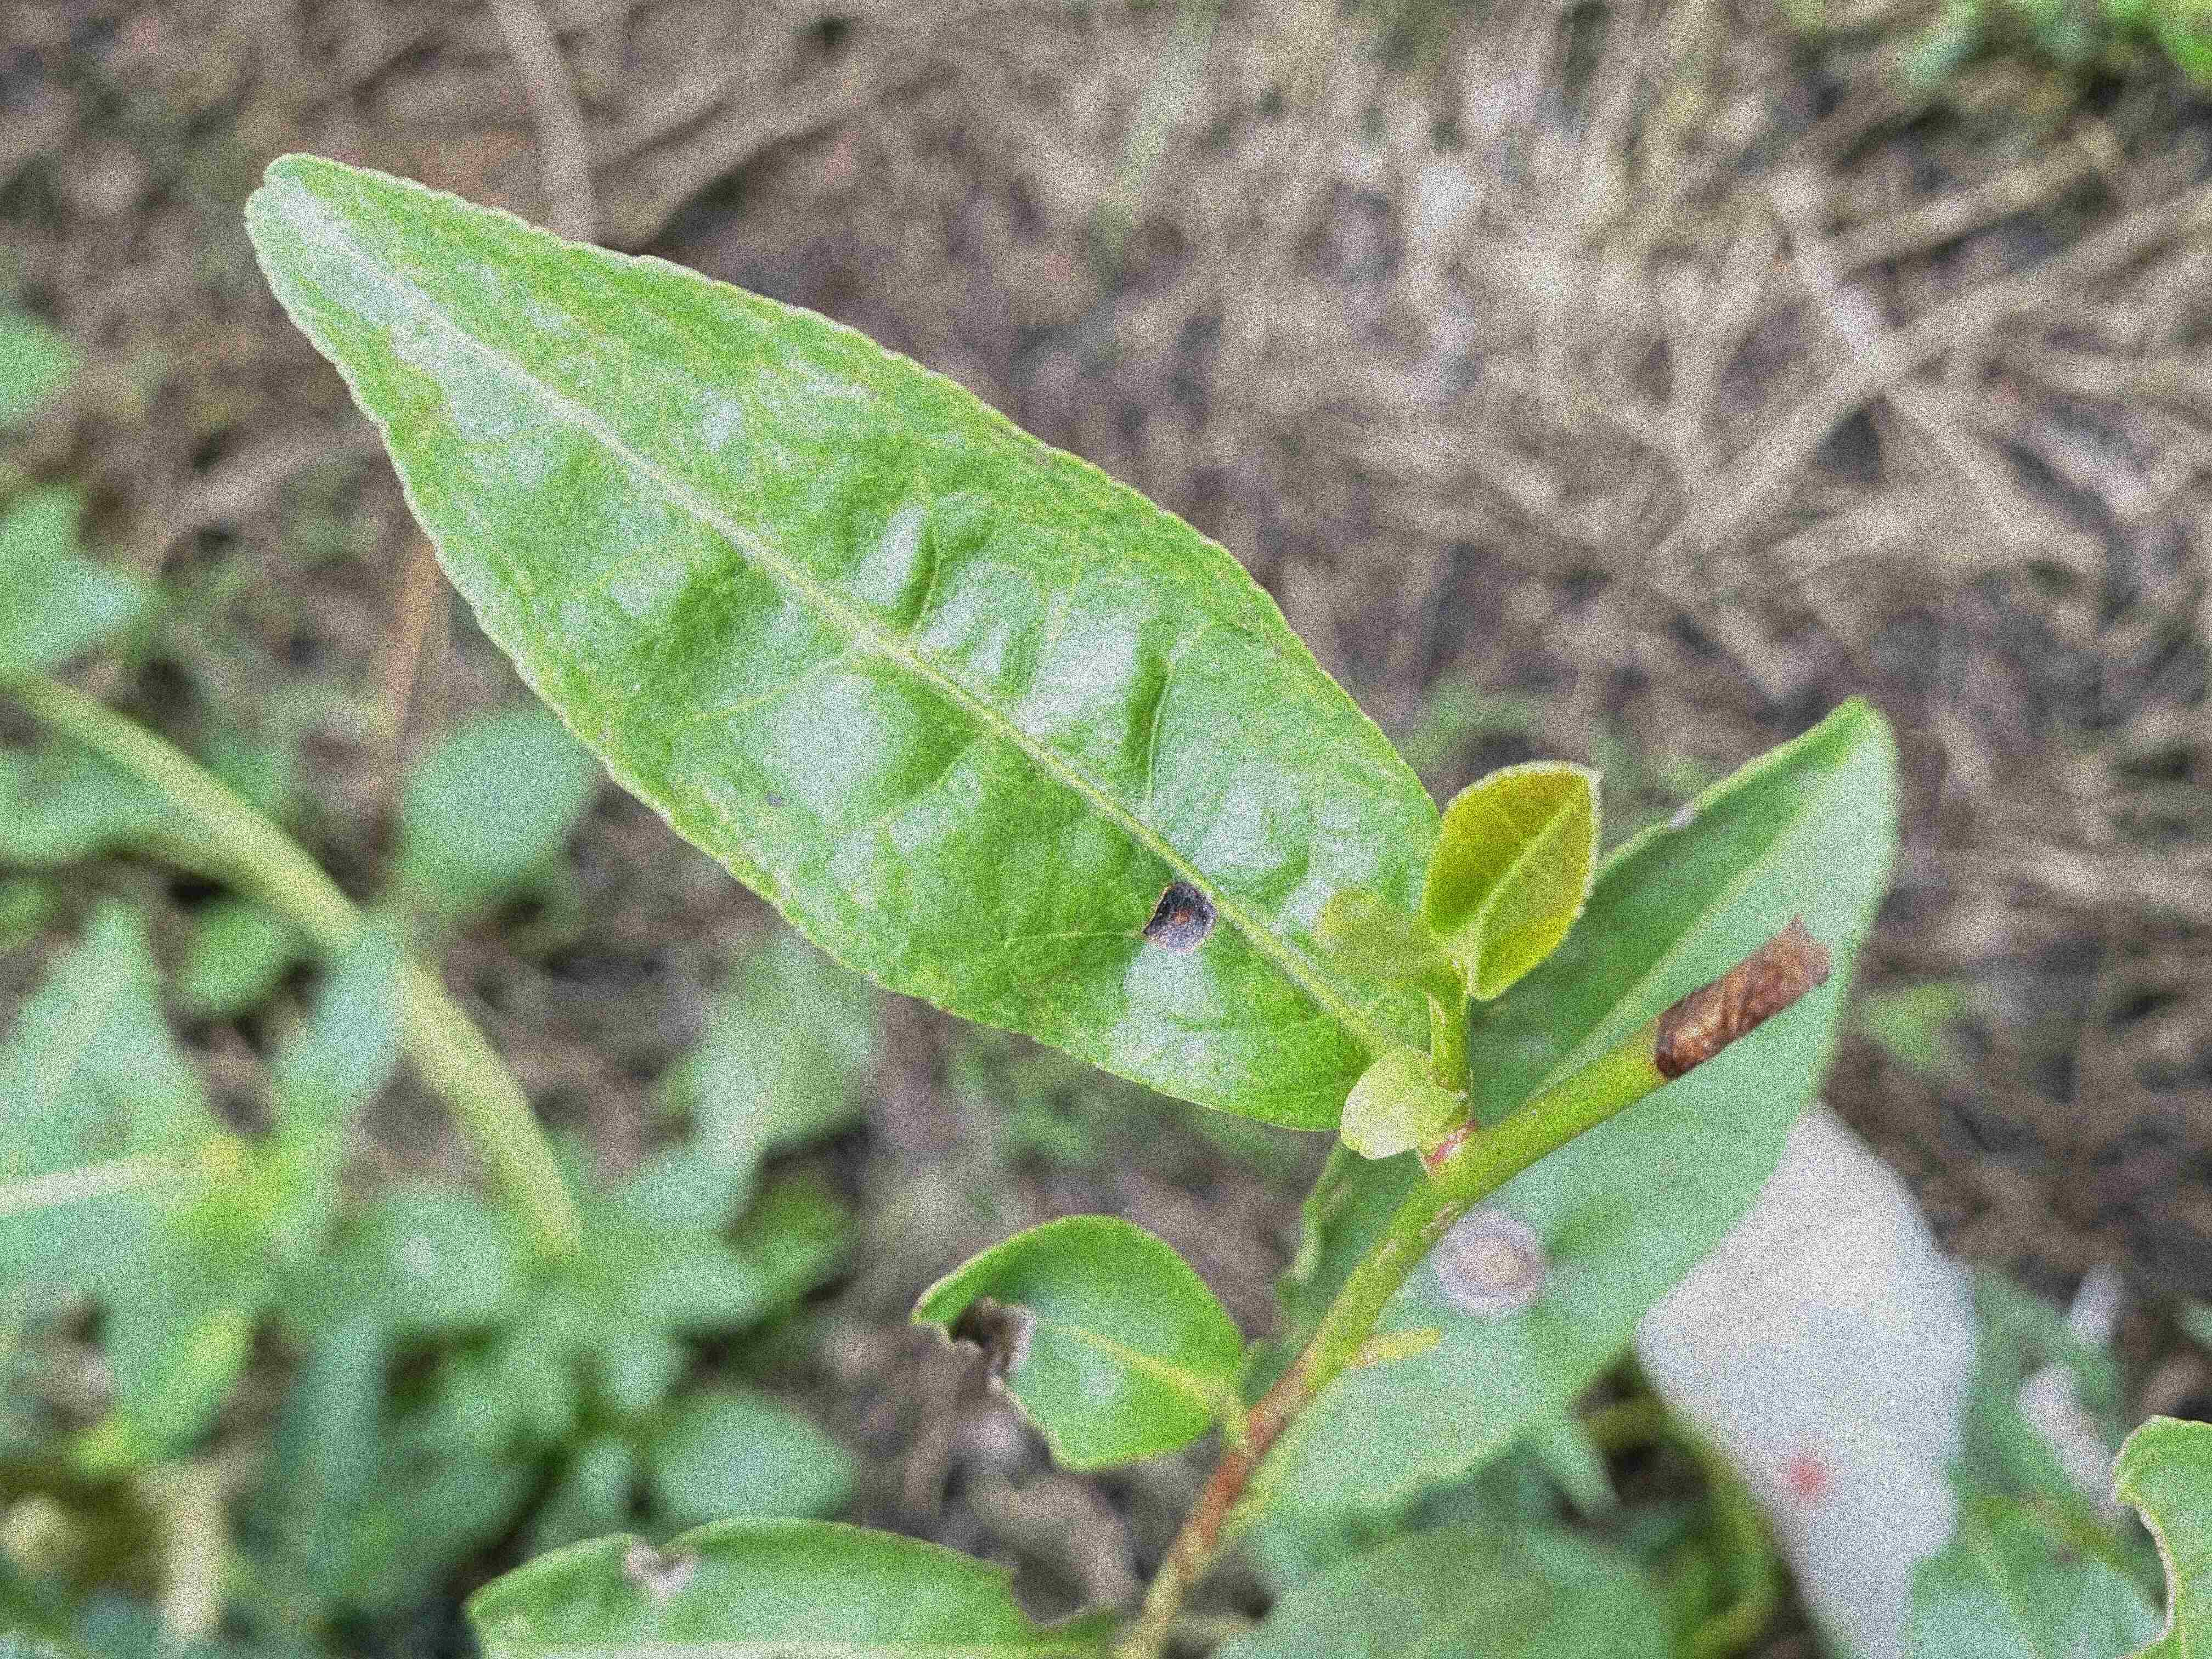chihuo_high: (462, 1516, 1122, 1657)
healthy: (1423, 762, 1602, 1002)
tanju_high: (1251, 701, 1902, 1514), (909, 1211, 1240, 1473)
tanju_low: (239, 153, 1440, 1134)
